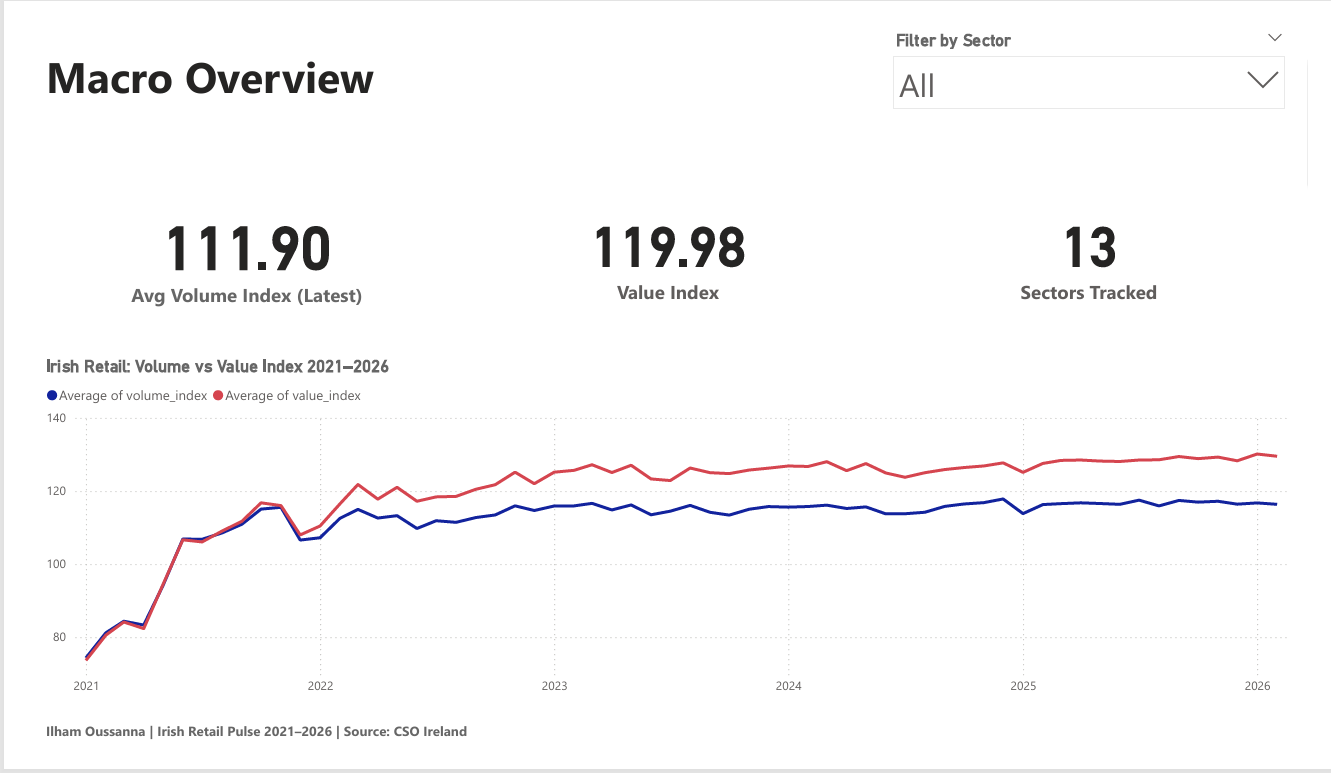

This screenshot's page, from the dashboard's own definition file:
{"tool":"powerbi","page":{"name":"Macro Overview","canvas":[1280,720],"ordinal":0},"visuals":[{"type":"card","title":"Avg Volume Index (Latest)","fields":{"Values":["Avg(rsi_clean.volume_index)"]},"box":[13,136.6,412,181.2],"z":0},{"type":"card","fields":{"Values":["Avg(rsi_clean.value_index)"]},"box":[434.2,136.6,412,181.2],"z":1000},{"type":"card","fields":{"Values":["rsi_clean.Sectors Tracked"]},"box":[854.8,136.6,412,181.2],"z":2000},{"type":"textbox","box":[13.1,0,833.5,123.8],"z":3000},{"type":"lineChart","title":"Irish Retail: Volume vs Value Index 2021–2026","fields":{"Category":["rsi_clean.month"],"Y":["Avg(rsi_clean.volume_index)","Avg(rsi_clean.value_index)"]},"box":[13,330.6,1253.8,348.2],"z":4000},{"type":"slicer","fields":{"Values":["rsi_clean.sector"]},"box":[854.9,0,412,123.8],"z":5000},{"type":"textbox","box":[13,691.5,1253.8,28.5],"z":6000}]}

Visuals, with their boxes on the page's 1280x720 design canvas (x1, y1, x2, y2). These are canvas units, not pixel positions in the 1331x773 screenshot, which may show the page scaled, cropped or inside an application window:
"Avg Volume Index (Latest)" card: {"x1": 13, "y1": 137, "x2": 425, "y2": 318}
card - Avg(rsi_clean.value_index): {"x1": 434, "y1": 137, "x2": 846, "y2": 318}
card - rsi_clean.Sectors Tracked: {"x1": 855, "y1": 137, "x2": 1267, "y2": 318}
textbox: {"x1": 13, "y1": 0, "x2": 847, "y2": 124}
"Irish Retail: Volume vs Value Index 2021–2026" lineChart: {"x1": 13, "y1": 331, "x2": 1267, "y2": 679}
slicer - rsi_clean.sector: {"x1": 855, "y1": 0, "x2": 1267, "y2": 124}
textbox: {"x1": 13, "y1": 692, "x2": 1267, "y2": 720}
